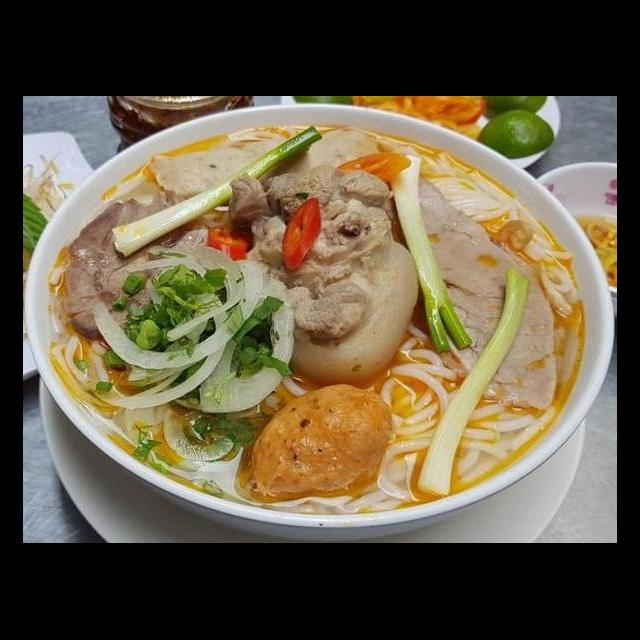bun: (375, 320, 560, 514), (43, 328, 172, 444), (421, 144, 519, 230), (518, 222, 588, 328)
bun bo: (71, 135, 584, 506)
thit bo: (405, 170, 561, 416), (59, 190, 198, 342)
thit heo: (217, 162, 400, 344)
